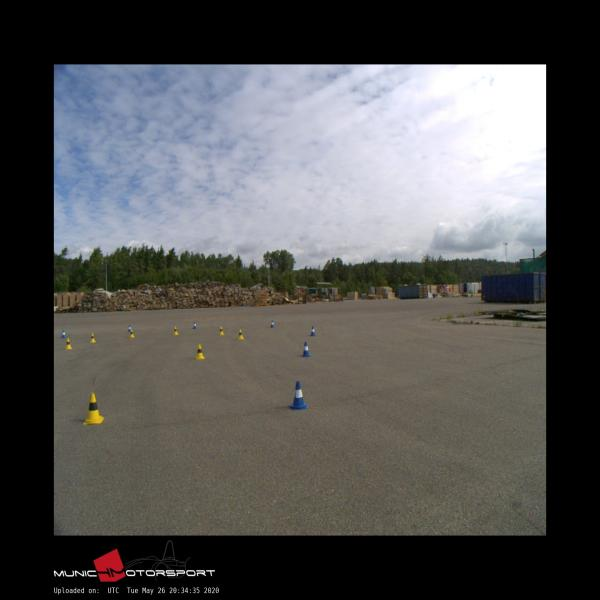blue_cone: (288, 381, 307, 409), (302, 342, 310, 356), (310, 326, 316, 336), (270, 320, 275, 328), (62, 330, 66, 338), (193, 321, 197, 328), (128, 325, 131, 332)
yellow_cone: (83, 393, 104, 424), (195, 344, 204, 359), (64, 338, 72, 349), (90, 332, 96, 342), (129, 329, 135, 338), (237, 330, 243, 338), (218, 326, 224, 334), (172, 326, 178, 334)
